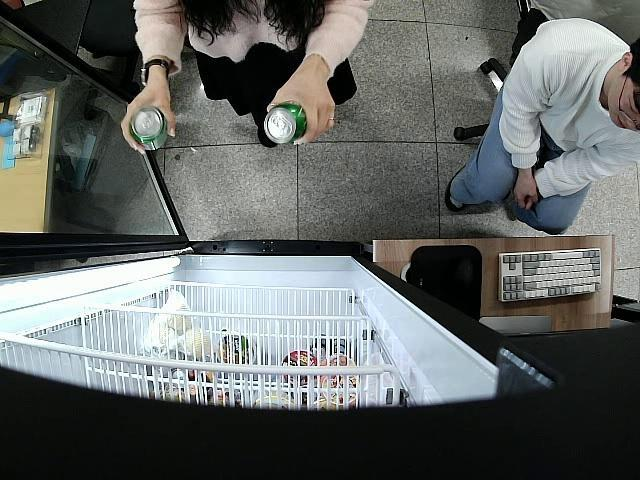12_chilsungCider: (262, 100, 307, 147), (130, 107, 166, 152)
